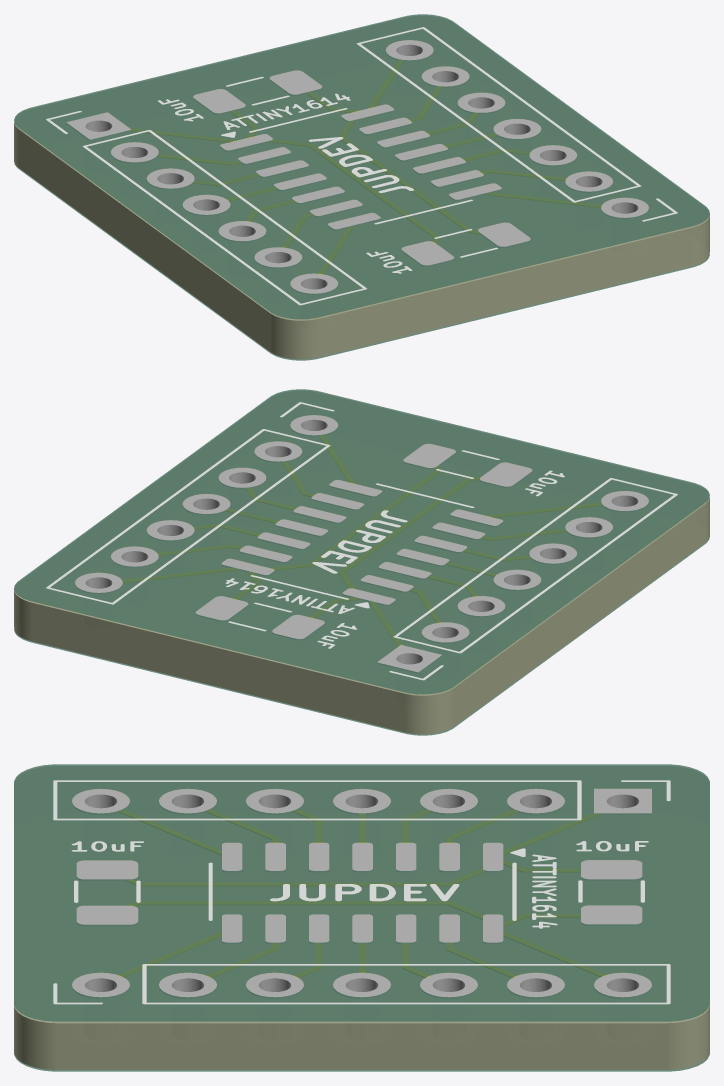
The model's file is dev-attinyboard-minibadge.glb.
3 renders of one model, top to bottom at view 1: azimuth 30°, elevation 25°; view 2: azimuth 150°, elevation 25°; view 3: azimuth 270°, elevation 25°, orthographic. The views are drawn at different scales.
Visible parts, largest first — view 1: =>[0:1:1:7], =>[0:1:1:5], =>[0:1:1:2], =>[0:1:1:4]; view 2: =>[0:1:1:7], =>[0:1:1:5], =>[0:1:1:2], =>[0:1:1:4]; view 3: =>[0:1:1:7], =>[0:1:1:5], =>[0:1:1:2], =>[0:1:1:4].
Part boxes in pixels (x1,y1,x2,y2): =>[0:1:1:7]: (14,16,709,359); =>[0:1:1:5]: (14,14,709,360); =>[0:1:1:2]: (66,40,648,294); =>[0:1:1:4]: (46,27,677,305); =>[0:1:1:7]: (14,391,709,734); =>[0:1:1:5]: (14,389,709,735); =>[0:1:1:2]: (75,415,648,672); =>[0:1:1:4]: (46,402,677,680); =>[0:1:1:7]: (14,766,709,1069); =>[0:1:1:5]: (14,764,709,1071); =>[0:1:1:2]: (72,789,651,997); =>[0:1:1:4]: (53,780,670,1004).
Size of the model in its own units: 0.0178 by 0.00163 by 0.0203.
4 materials, 4 textured.
